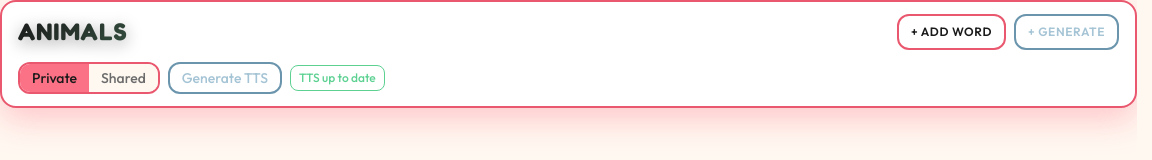
Test case: shared theme header › commits keyboard editing on Enter
The width and height of the screenshot is (1152, 160).
Click the heading "ANIMALS" at (451, 32), box [18,16,885,48]
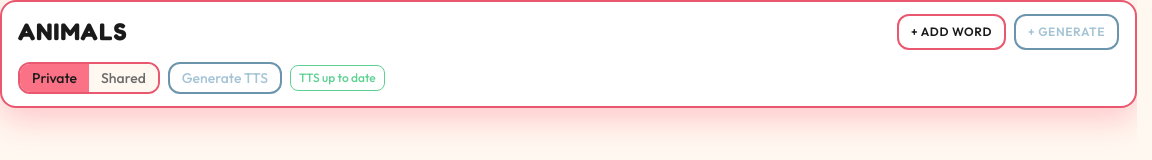
Replace the text in the field with test id "theme-name-input" with "fish" at (451, 32), box [18,16,885,48]
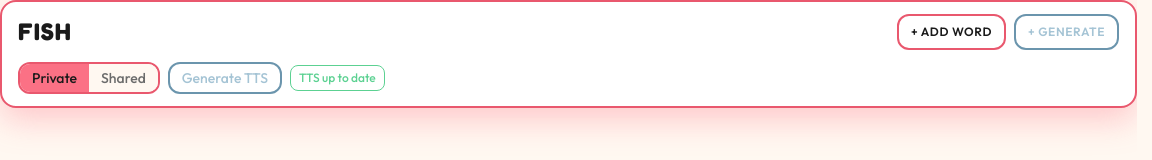
Press Enter in the field with test id "theme-name-input", box [18,16,885,48]
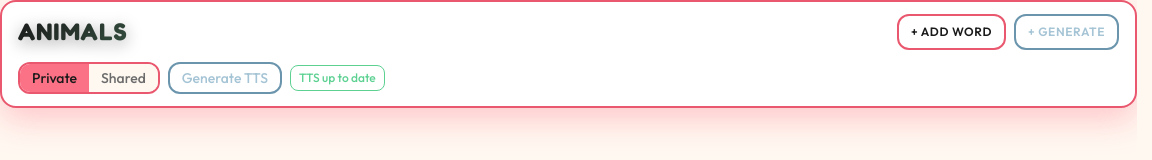
Now the field with test id "theme-name-input" is gone
